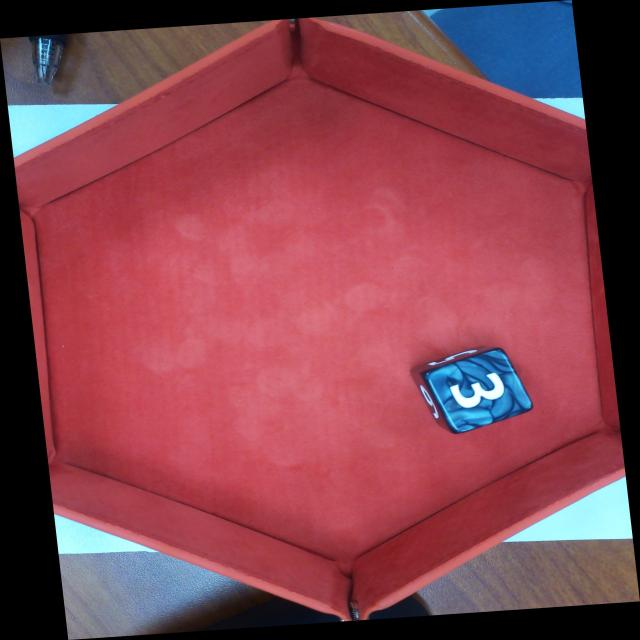dice: (425, 352, 536, 434)
